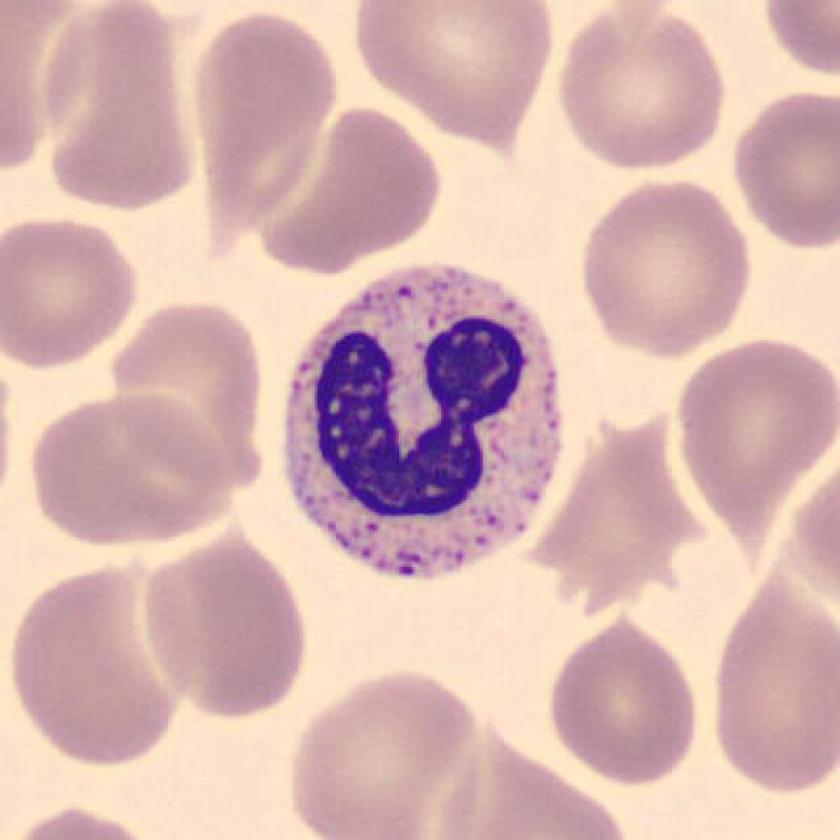neutrophil: (286, 268, 561, 579)
